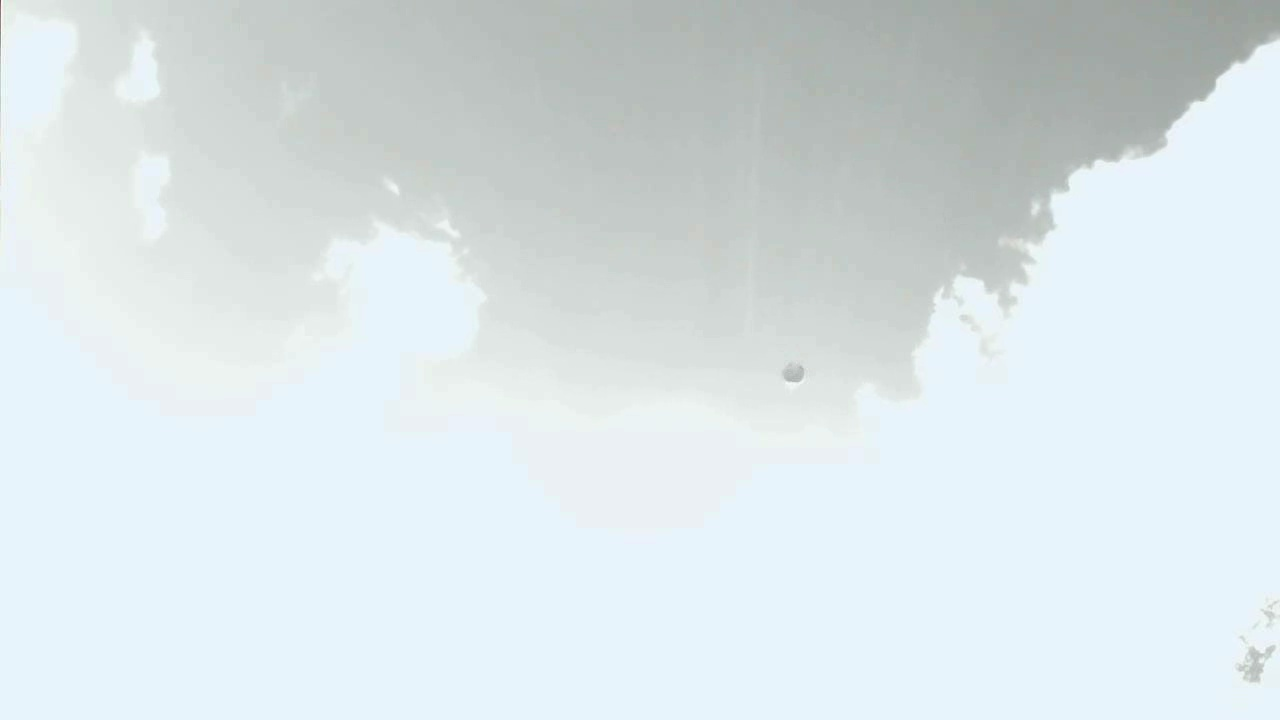Football-Spotter: (781, 362, 802, 384)
